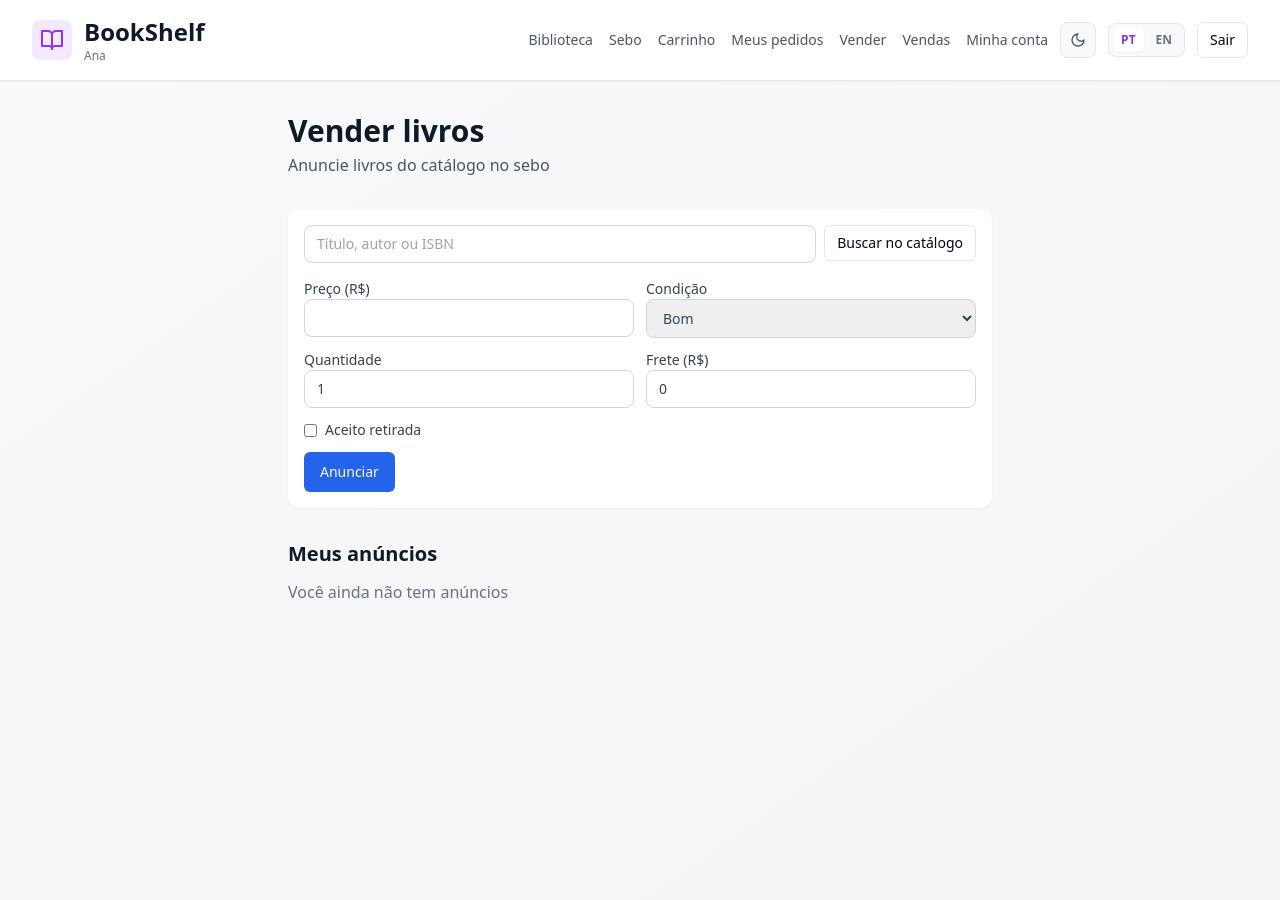
Test: SellPage › says so when the catalog has no match
expect the text "Você ainda não tem anúncios" is shown: met, box [288,581,508,603]
Type "nothing" into the field with test id "catalog-search-input" at (560, 244), box [304,225,816,263]
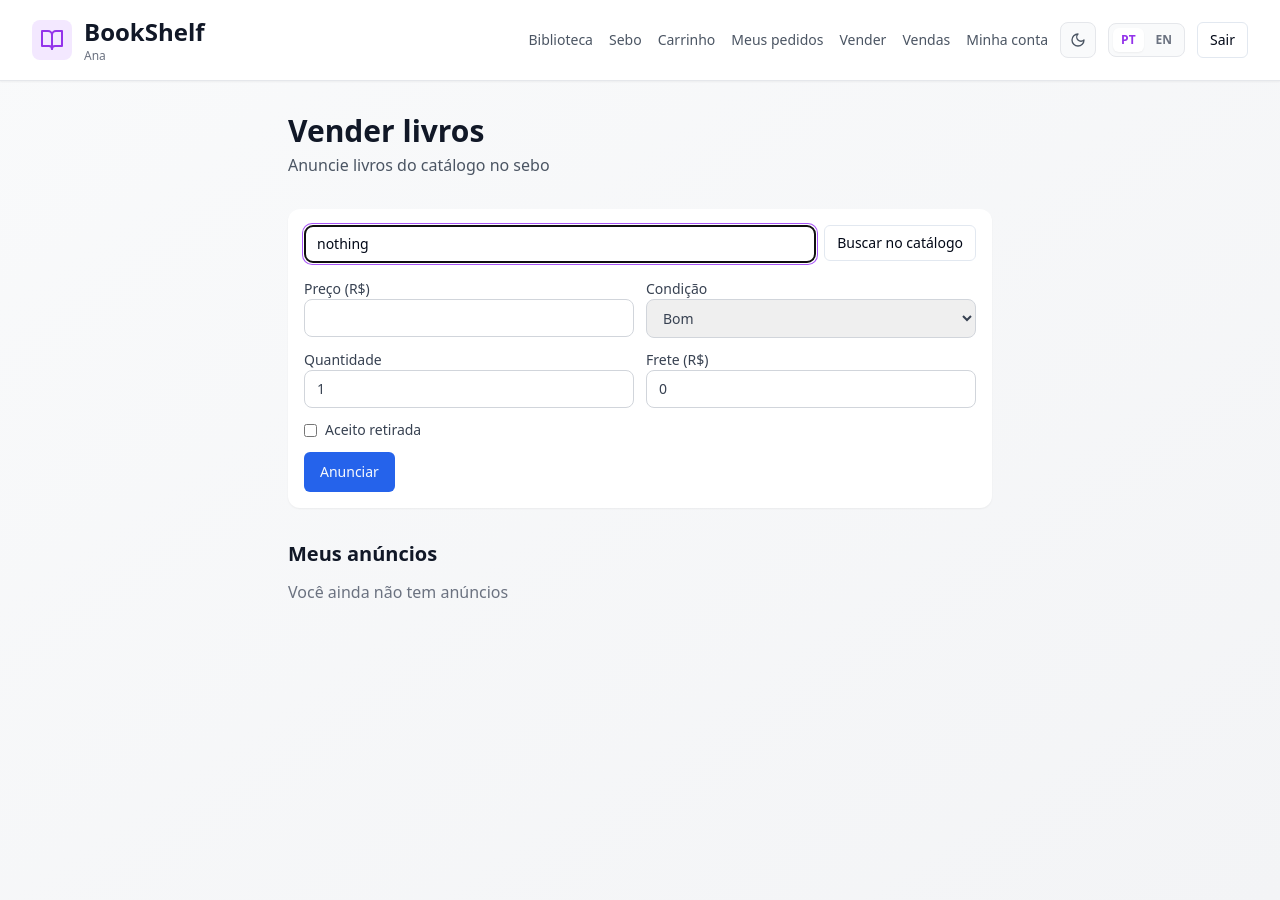
Click the button with test id "catalog-search-button" at (900, 243), box [824,225,976,261]
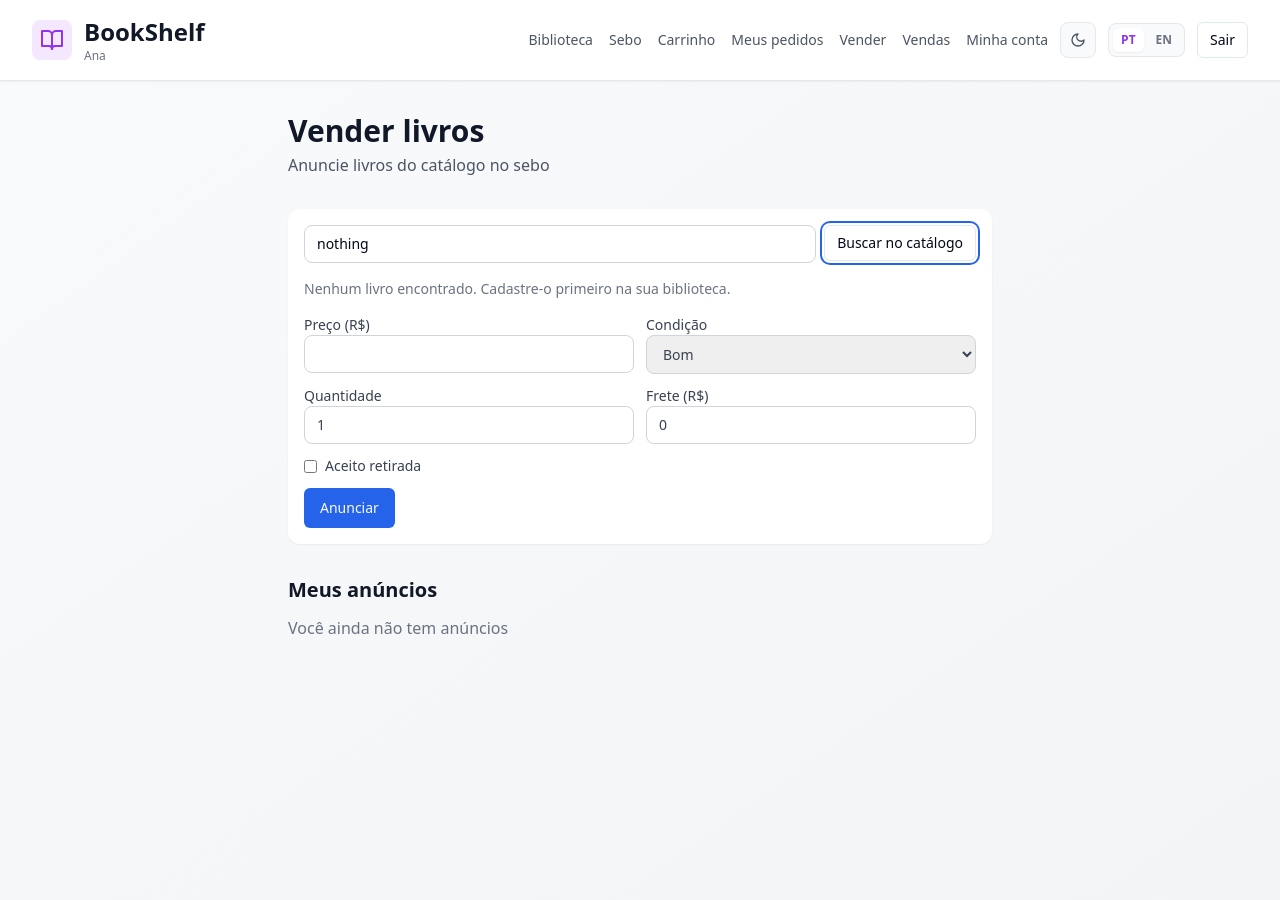
expect the text with test id "catalog-no-results" is shown: met, box [304,279,730,298]
